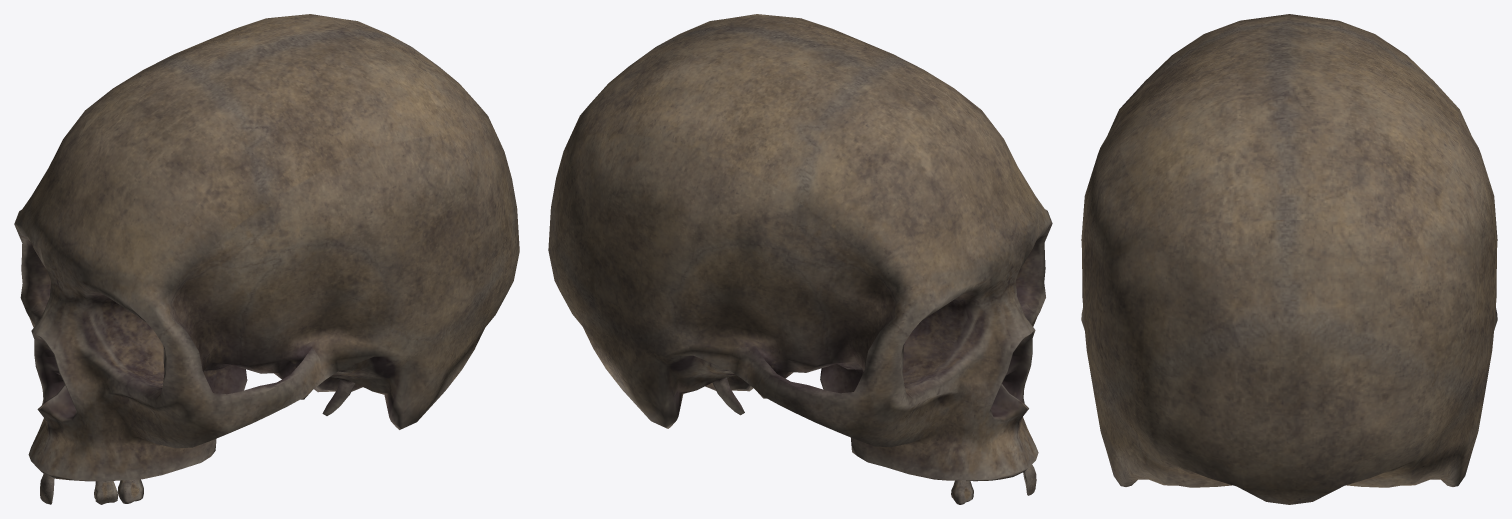
Rendered from sm_Skull_01_04.fbx.
The picture shows the model from 3 angles, left to right: view 1: azimuth 30°, elevation 25°; view 2: azimuth 150°, elevation 25°; view 3: azimuth 270°, elevation 25°; orthographic projection. The views are drawn at different scales.
Parts seen in each view (by area): view 1: sm_Skull_01_04_LOD0; view 2: sm_Skull_01_04_LOD0; view 3: sm_Skull_01_04_LOD0.
Boxes of the visible parts, box(x1,y1,x2,y2) form: sm_Skull_01_04_LOD0: box(14, 14, 519, 504); sm_Skull_01_04_LOD0: box(548, 14, 1052, 504); sm_Skull_01_04_LOD0: box(1081, 14, 1497, 504).
Bounding box in the file's own units: 23.98 × 16.42 × 20.01.
